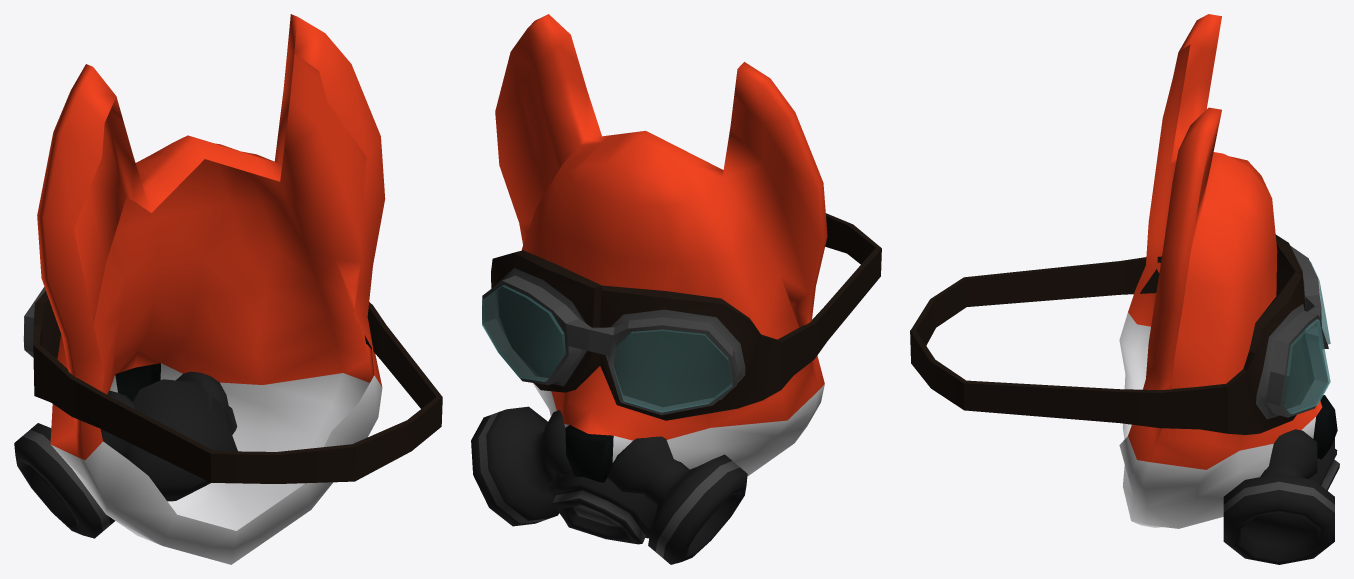
File: mask.fbx
3 views of the same model, side by side, from view 1: azimuth 30°, elevation 25°; view 2: azimuth 150°, elevation 25°; view 3: azimuth 270°, elevation 25° (orthographic). The views are drawn at different scales.
Parts seen in each view (by area): view 1: Cylinder005; view 2: Cylinder005; view 3: Cylinder005.
Boxes of the visible parts, bbox=[...] form: Cylinder005: bbox=[14, 14, 442, 564]; Cylinder005: bbox=[471, 14, 881, 564]; Cylinder005: bbox=[910, 14, 1339, 564].
Size of the model in its own units: 7.18 by 10.2 by 8.48.
